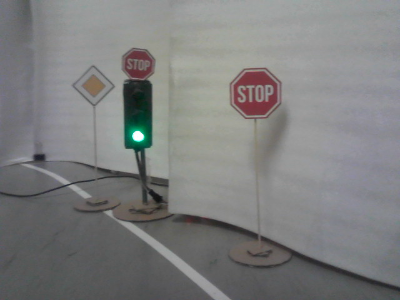priority_road: (73, 67, 113, 104)
stop: (231, 68, 281, 119), (123, 49, 154, 80)
trafficlight_green: (123, 83, 151, 147)
